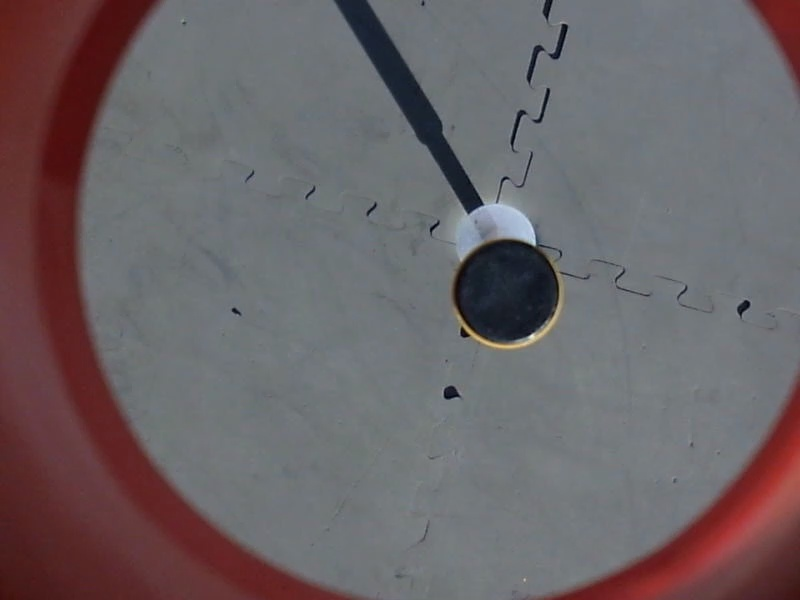tip: (448, 233, 571, 357)
